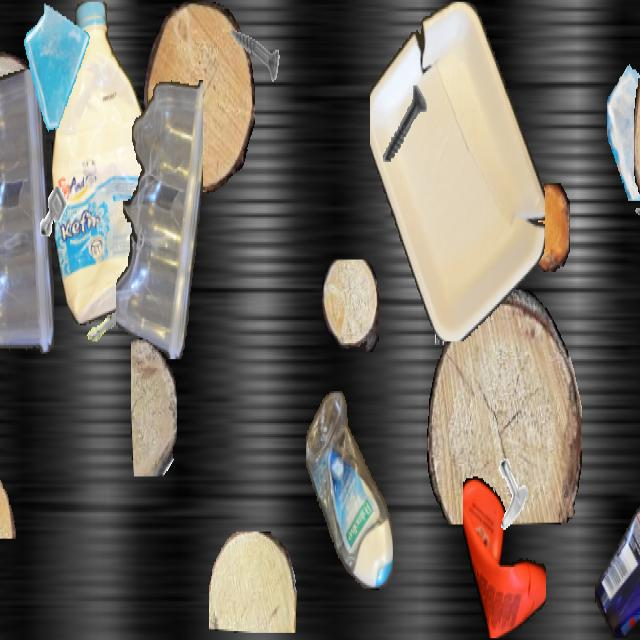glass: (20, 2, 94, 133), (607, 51, 640, 201)
metal: (373, 70, 435, 180), (70, 271, 128, 374), (222, 2, 280, 105), (427, 261, 473, 343), (487, 455, 531, 533), (32, 174, 74, 249), (632, 188, 640, 260)
plastic: (370, 2, 544, 340), (52, 2, 154, 325), (116, 73, 202, 357), (306, 391, 392, 590), (0, 69, 54, 361), (463, 471, 545, 638), (594, 450, 640, 638)
wood: (427, 290, 581, 524), (144, 2, 254, 194), (410, 166, 502, 300), (209, 532, 297, 631), (0, 52, 46, 212), (131, 338, 177, 476), (322, 260, 378, 352), (527, 183, 569, 272), (0, 442, 19, 538), (634, 2, 640, 254)
